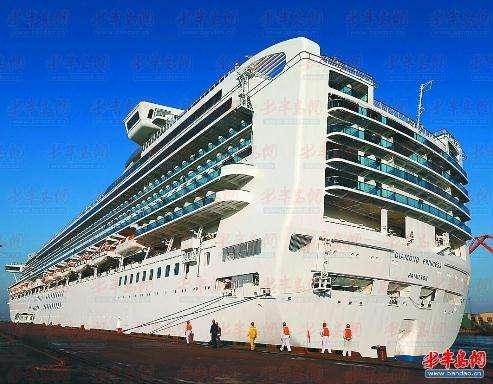person: (341, 322, 357, 358), (278, 320, 295, 352), (319, 321, 334, 355), (208, 318, 224, 349), (244, 322, 259, 352), (183, 319, 198, 343)
youlun: (9, 38, 471, 331)
